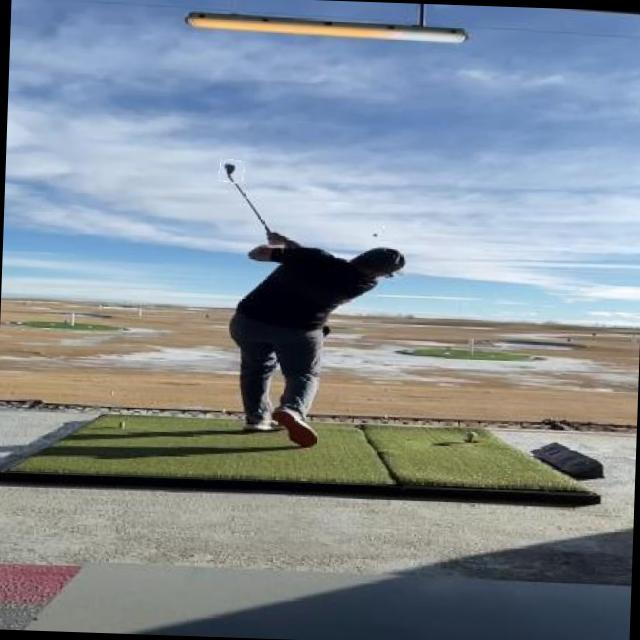club head: (218, 160, 244, 182)
